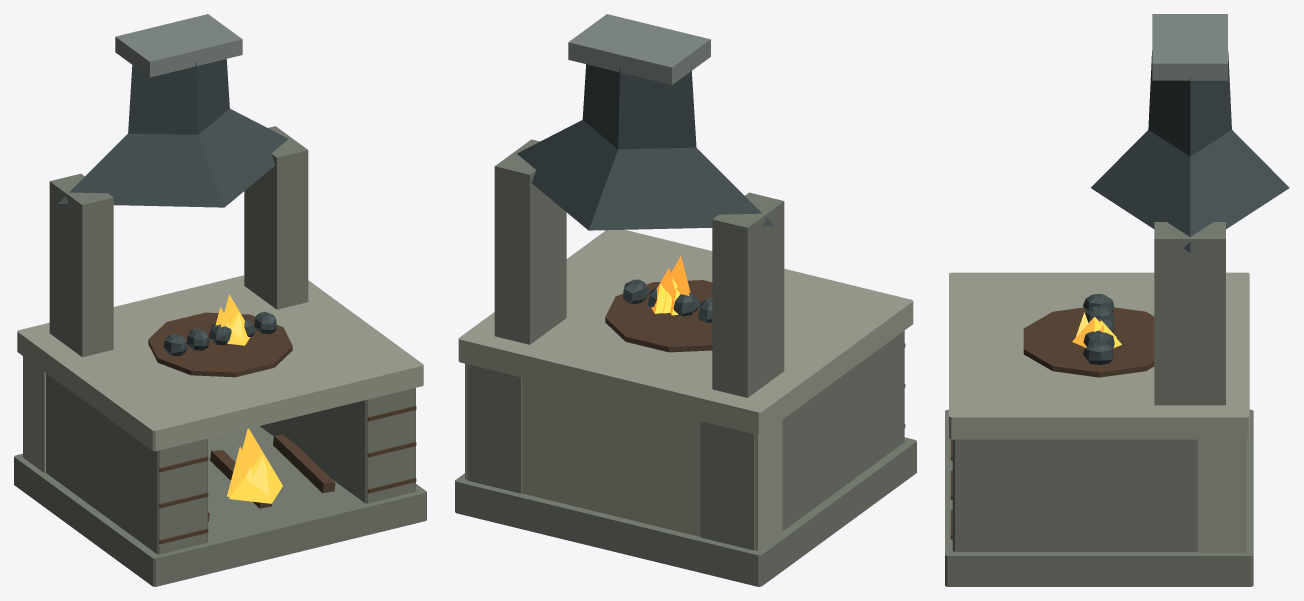
Rendered from forge_town.glb.
The picture shows the model from 3 angles, left to right: view 1: azimuth 30°, elevation 25°; view 2: azimuth 150°, elevation 25°; view 3: azimuth 270°, elevation 25°; orthographic projection. The views are drawn at different scales.
Visible parts, largest first — view 1: geometry, fire; view 2: geometry, fire; view 3: geometry, fire.
Boxes of the visible parts, x1,y1,x2,y2 form: geometry: (14,14,426,586); fire: (211,294,282,503); geometry: (455,14,916,586); fire: (651,256,693,315); geometry: (945,14,1289,586); fire: (1072,312,1121,348).
Size of the model in its own units: 1.83 by 2.77 by 1.82.
